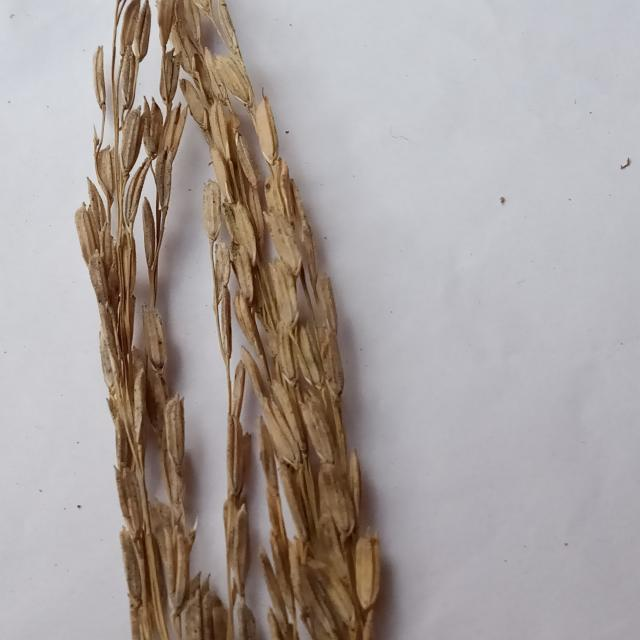Neck_Blast: (138, 5, 380, 640), (73, 0, 242, 640)
